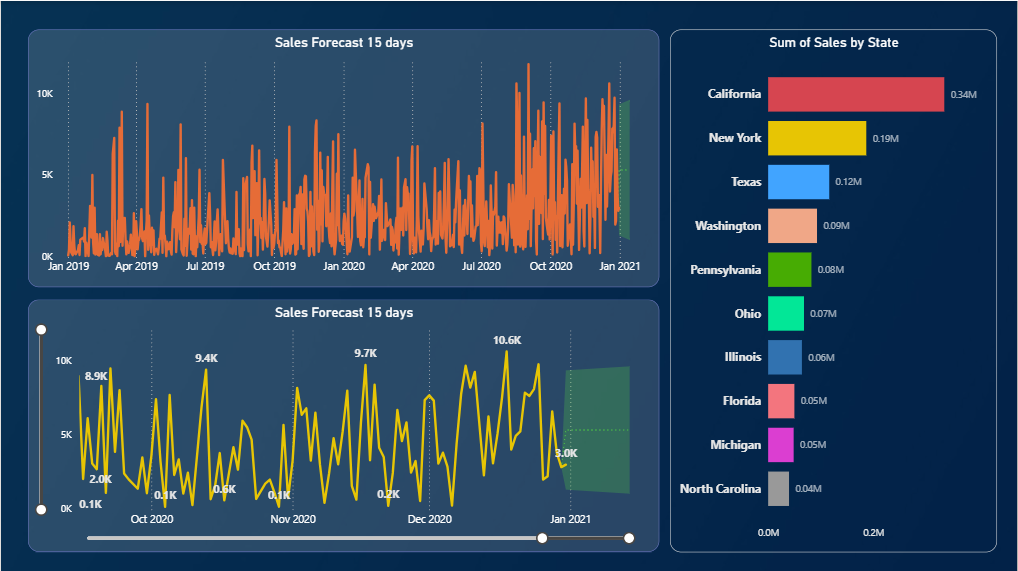

What the dashboard file says about the page in this screenshot:
{"tool":"powerbi","page":{"name":"Page 2","canvas":[1280,720],"ordinal":1},"visuals":[{"type":"lineChart","title":"Sales Forecast 15 days","fields":{"Y":["Sum(SuperStore_Sales_Dataset.Sales)"],"Category":["SuperStore_Sales_Dataset.Order Date"]},"box":[33.4,35,795.3,324.5],"z":0},{"type":"lineChart","title":"Sales Forecast 15 days ","fields":{"Y":["Sum(SuperStore_Sales_Dataset.Sales)"],"Category":["SuperStore_Sales_Dataset.Order Date"]},"box":[33.4,375.4,795.3,318.1],"z":1000},{"type":"clusteredBarChart","fields":{"Y":["Sum(SuperStore_Sales_Dataset.Sales)"],"Category":["SuperStore_Sales_Dataset.State"]},"box":[843,35,412,658.5],"z":2000}]}

Visuals, with their boxes in screenshot pixels (x1, y1, x2, y2), scaled from the page's 1280x720 canvas onto the 1018x571 screenshot:
"Sales Forecast 15 days" lineChart: region(27, 28, 659, 285)
"Sales Forecast 15 days " lineChart: region(27, 298, 659, 550)
clusteredBarChart - Sum(SuperStore_Sales_Dataset.Sales) x SuperStore_Sales_Dataset.State: region(670, 28, 998, 550)
